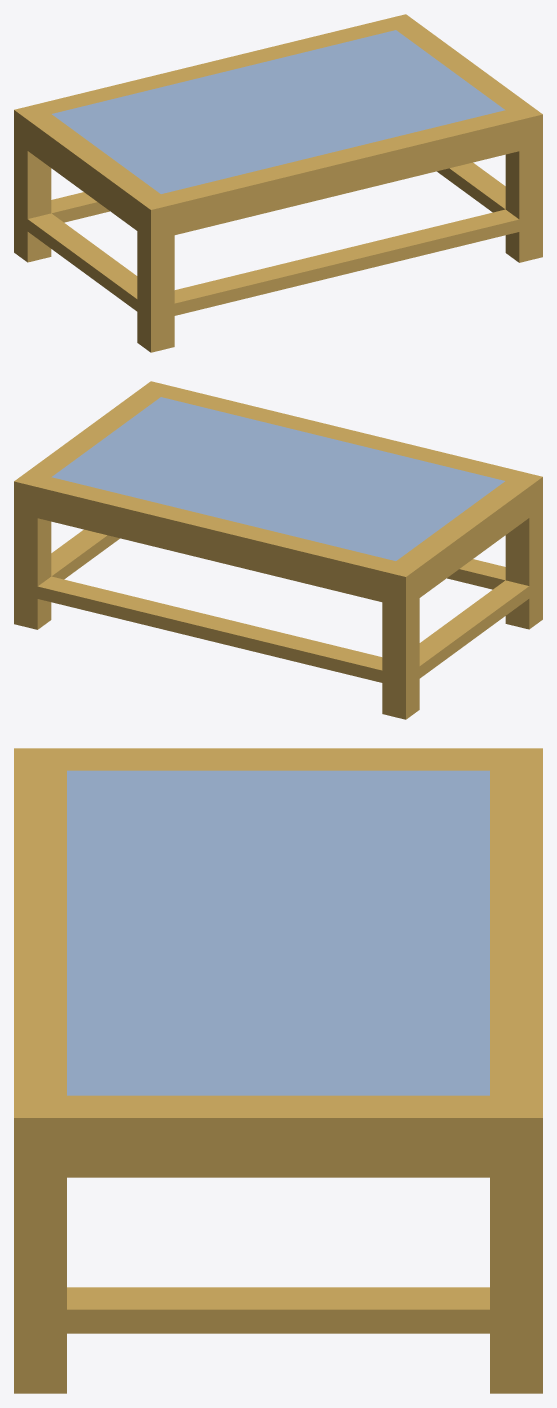
Rendered from coffee-table-glass.glb.
3 renders of one model, top to bottom at view 1: azimuth 30°, elevation 25°; view 2: azimuth 150°, elevation 25°; view 3: azimuth 270°, elevation 25°, orthographic. The views are drawn at different scales.
Parts seen in each view (by area): view 1: coffee-table-glass; view 2: coffee-table-glass; view 3: coffee-table-glass.
Boxes of the visible parts, left/top/right/bottom form: coffee-table-glass: left=14, top=14, right=542, bottom=352; coffee-table-glass: left=14, top=381, right=542, bottom=719; coffee-table-glass: left=14, top=748, right=542, bottom=1393.
Bounding box in the file's own units: 1.32 × 0.46 × 0.8.
